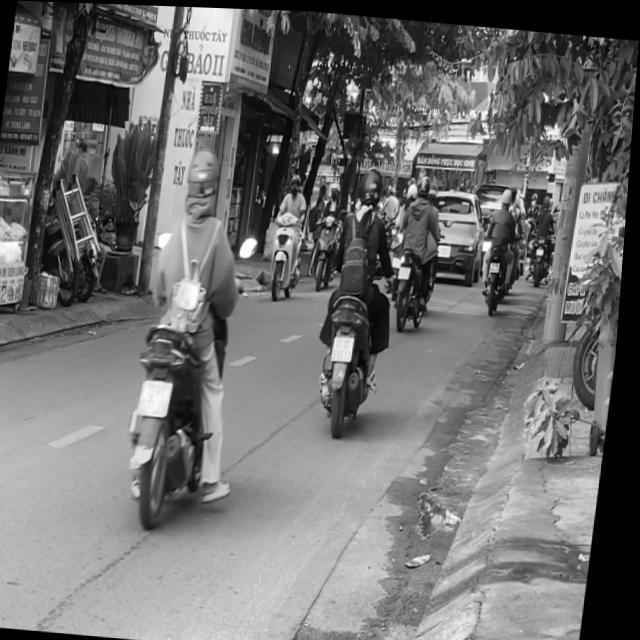helmet: (181, 143, 225, 215), (358, 163, 385, 203), (417, 169, 432, 194)
licenseplate: (120, 138, 269, 532), (311, 158, 411, 433), (389, 167, 450, 327)
nohelmet: (143, 378, 177, 415), (336, 332, 358, 358), (401, 262, 414, 275)
